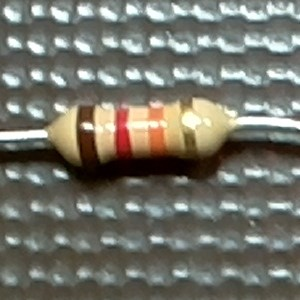brown_band: (75, 103, 103, 172)
gold_band: (177, 94, 205, 162)
orange_band: (146, 104, 170, 160)
red_band: (113, 105, 136, 163)
